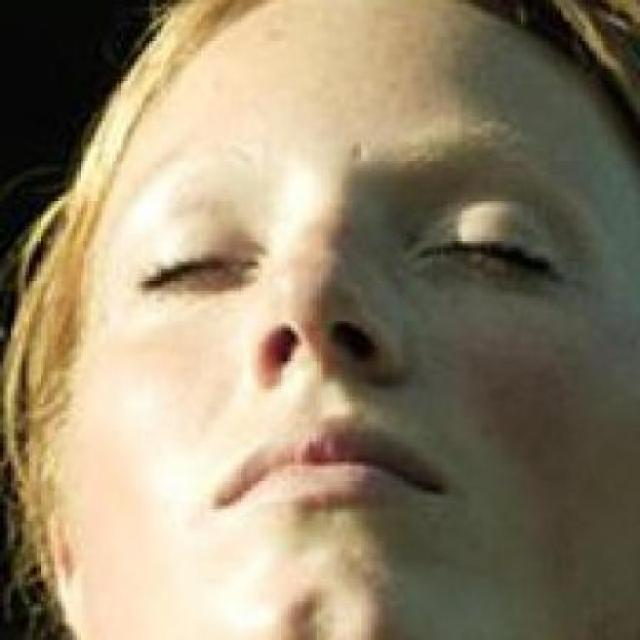drowsy: (422, 216, 553, 292), (138, 242, 255, 295)
